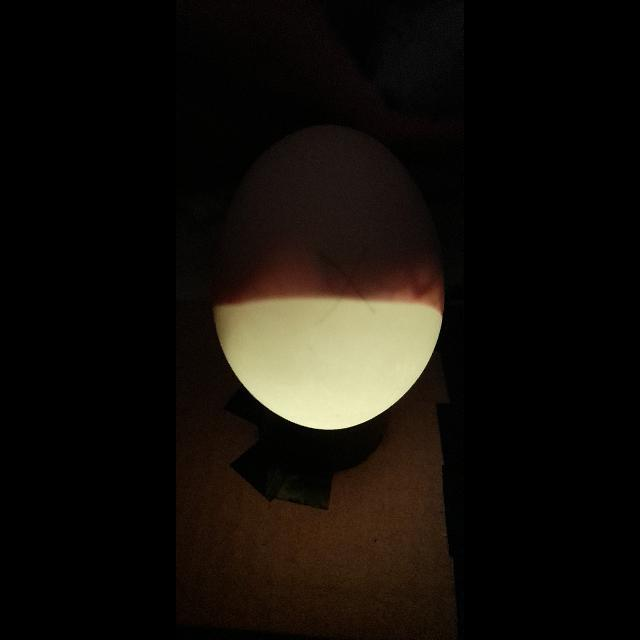Fertile: (202, 120, 448, 436)
